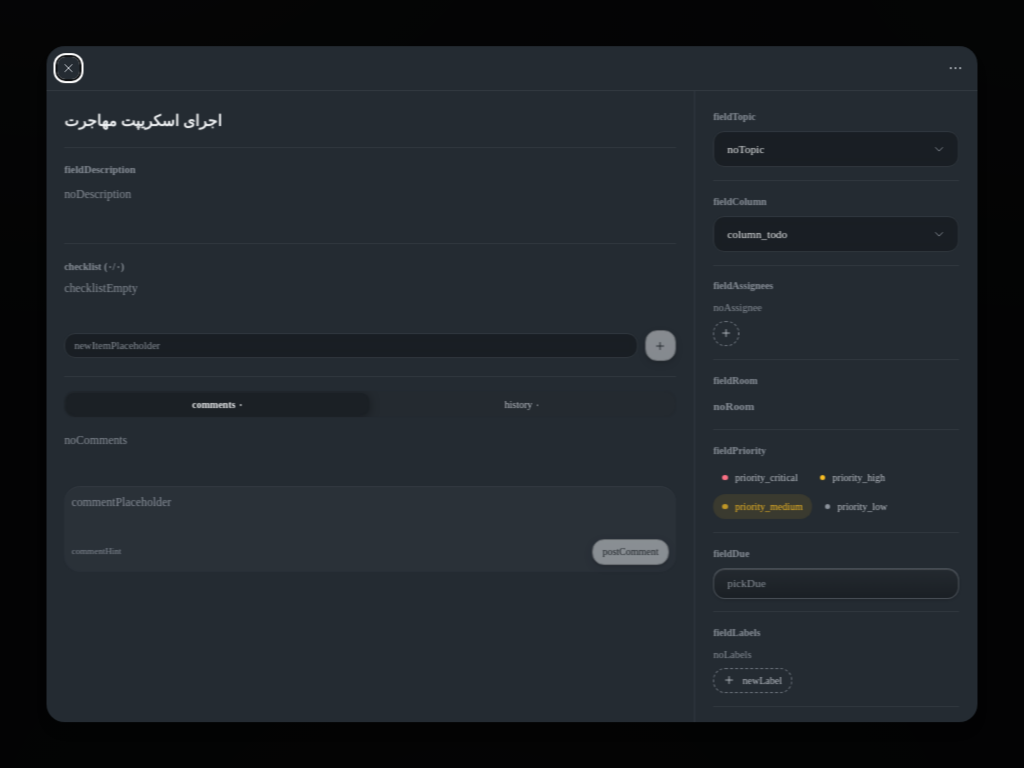
Test: the acts are all in one menu (2026-09-19) › «edit» opens the editor in THIS panel, and the row then offers the way out
Click the button named "more" at (956, 68), box [945, 57, 967, 79]
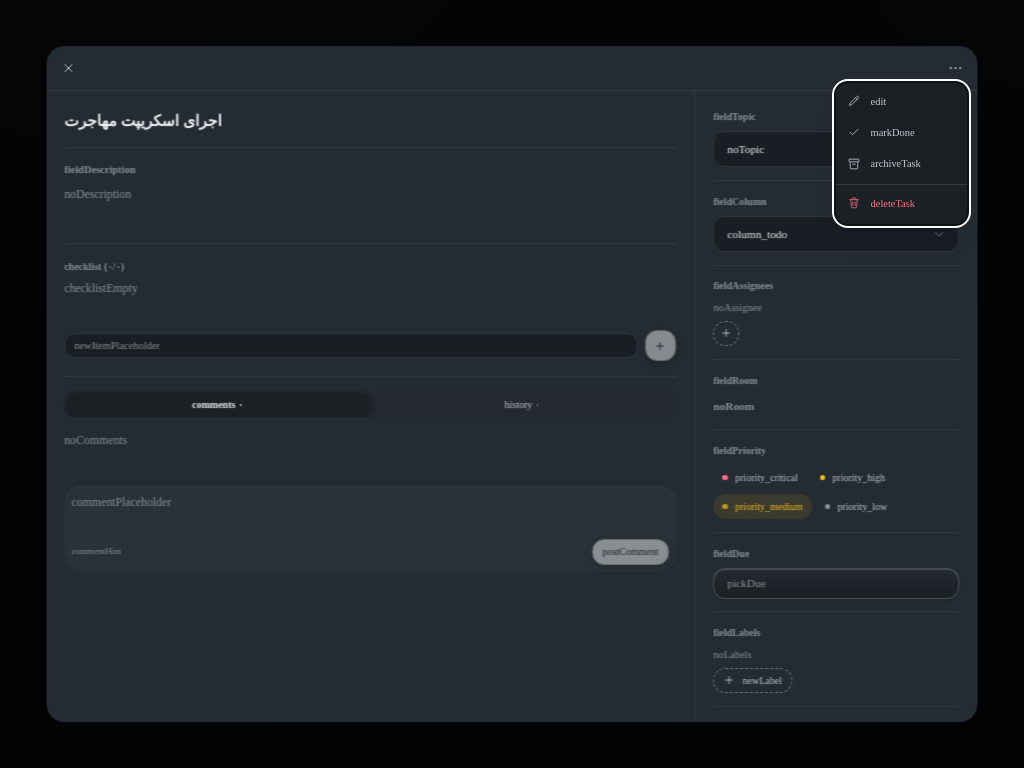
Click the menu item "edit" at (854, 101), box [847, 94, 886, 108]
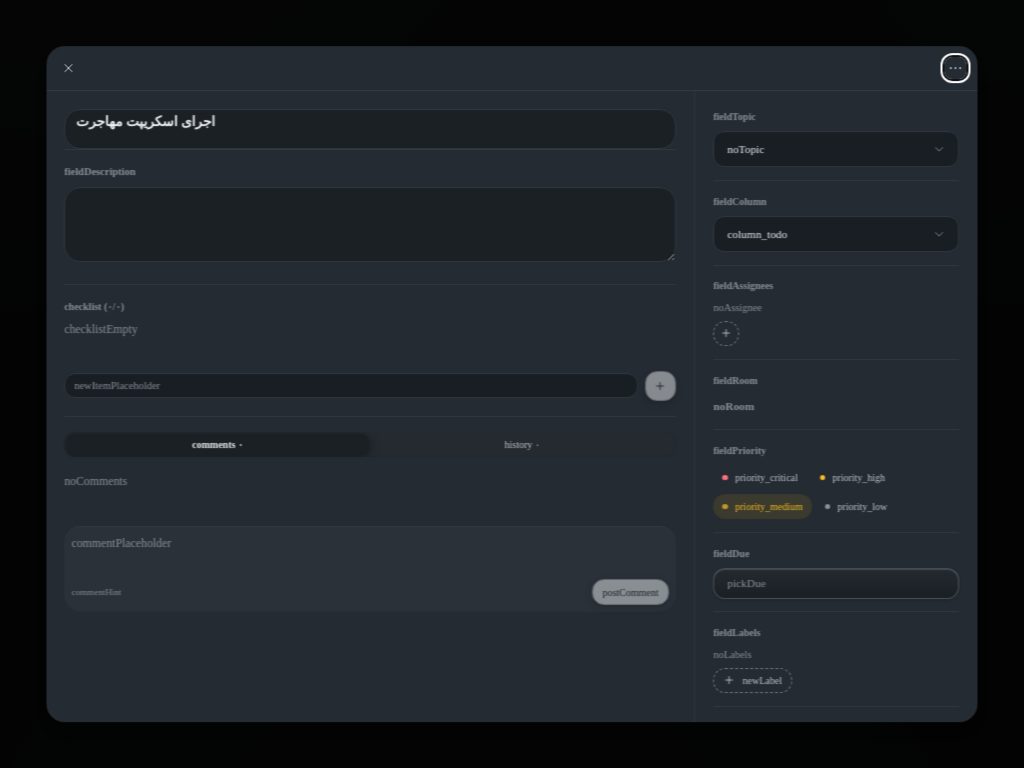
Click the button named "more" at (956, 68), box [945, 57, 967, 79]
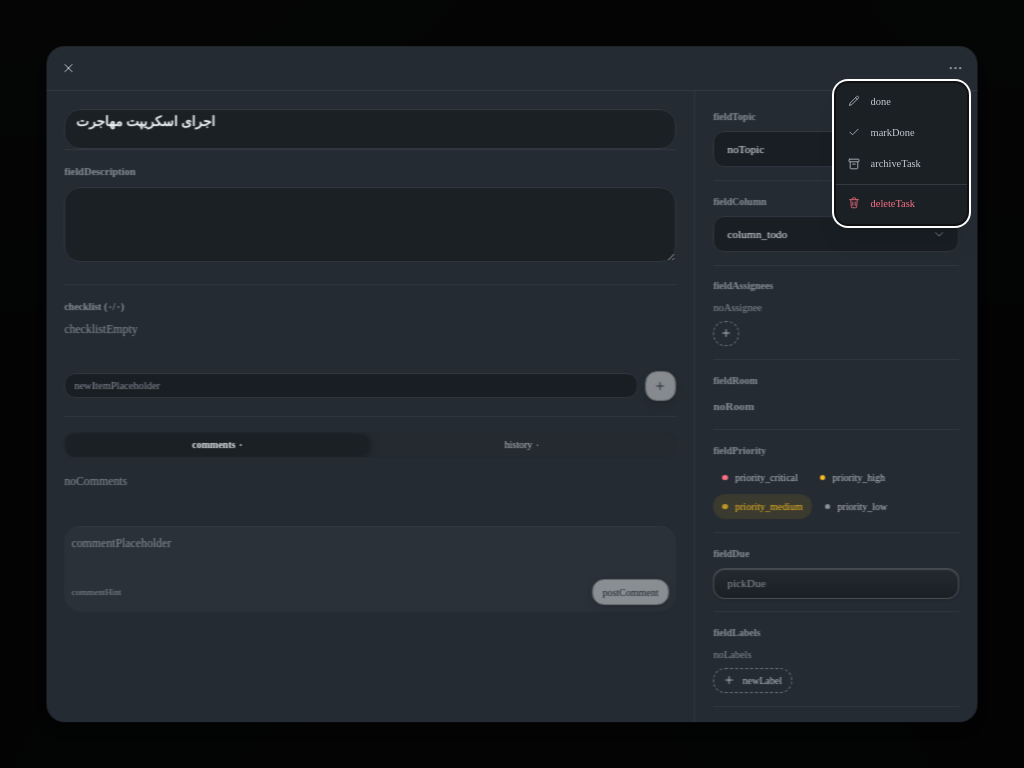
Check: the menu item "done" is shown, box [847, 94, 891, 108]
